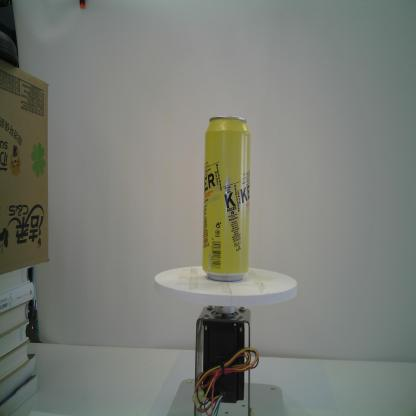Alcohol: (198, 114, 254, 285)
